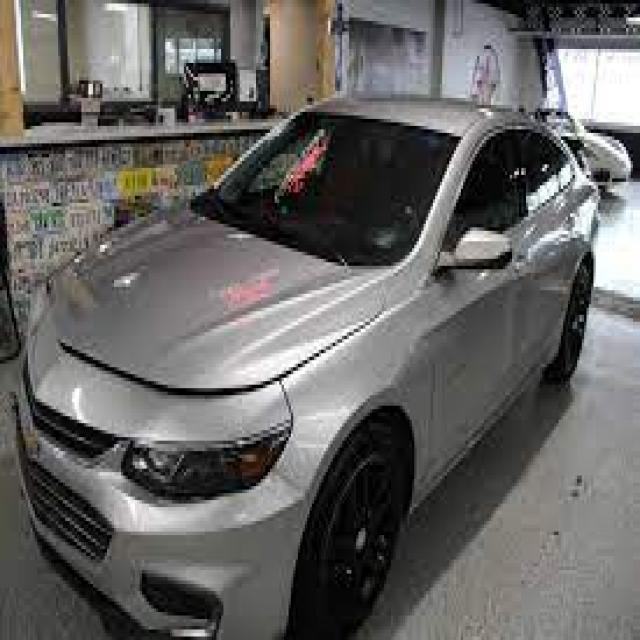minor: (219, 119, 424, 418)
